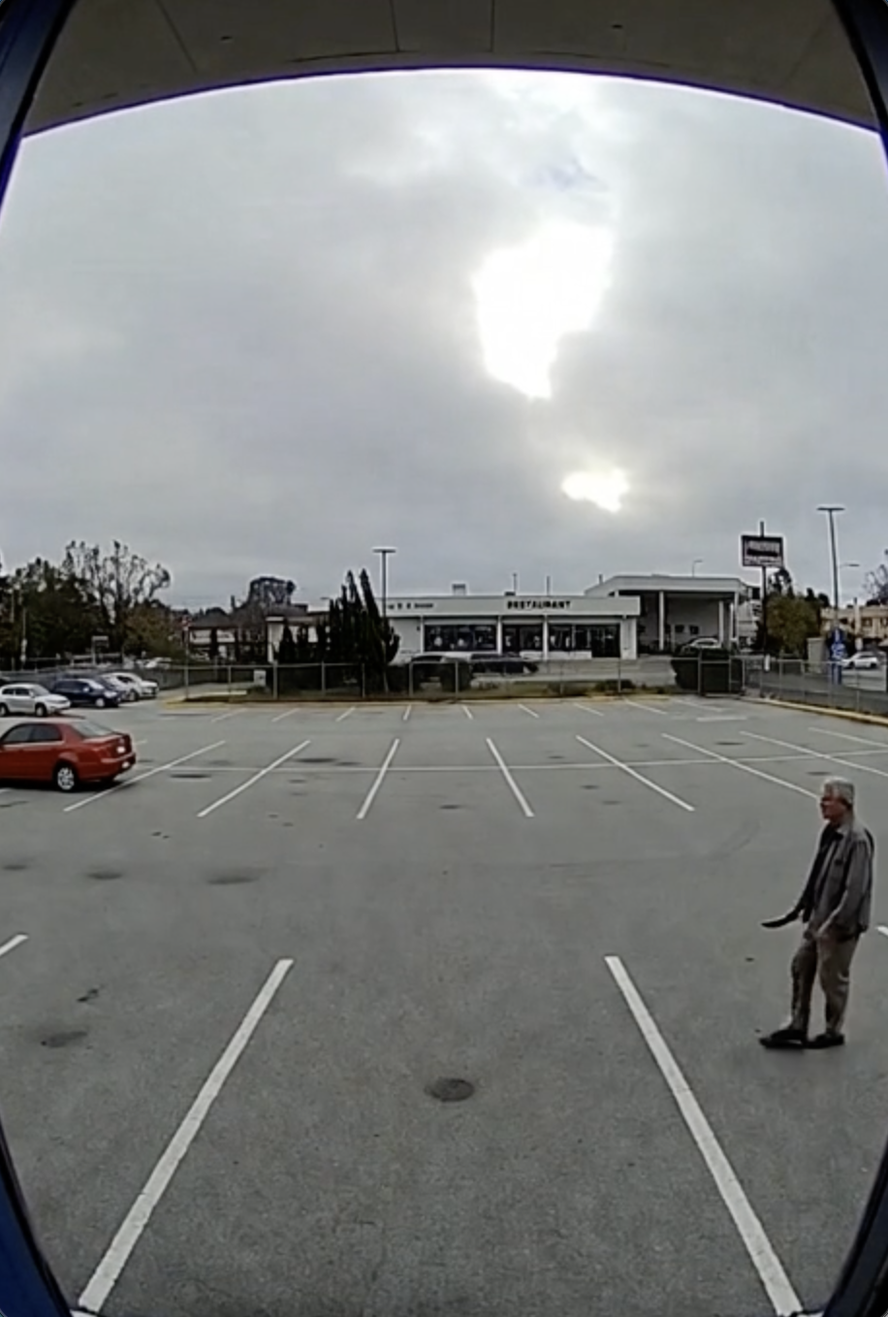Heavy Gun: (763, 774, 880, 1060)
Knife: (759, 898, 809, 934)
